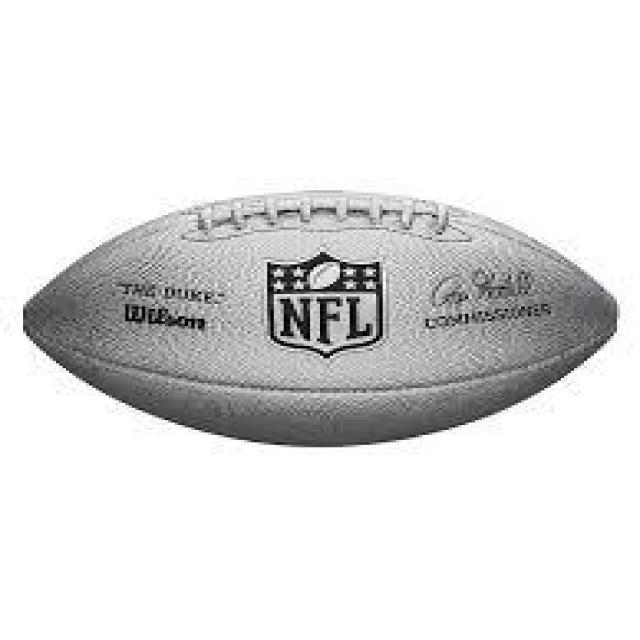ball: (12, 188, 634, 448)
